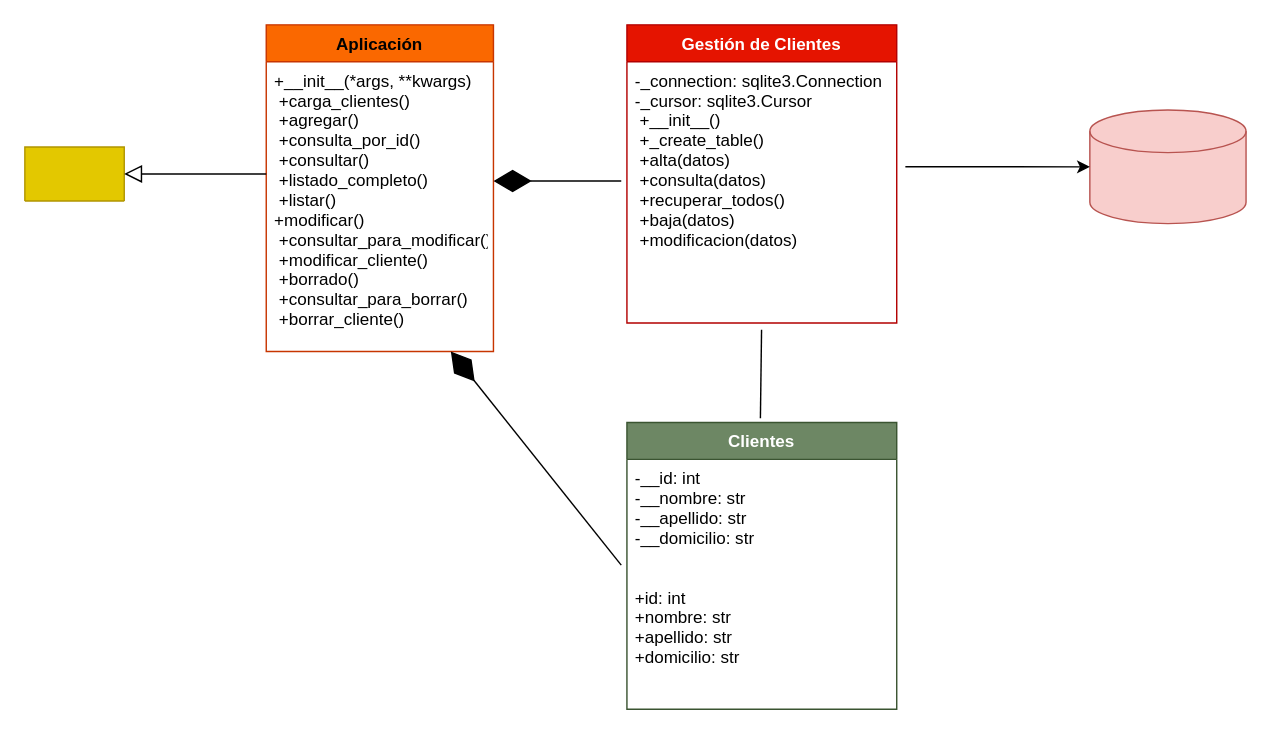
The diagram is 1271 pixels wide and 738 high, and some of its shapes have lost their labels. Each missing label, with the centre of its shape:
Base de Datos Sqlite 3: the point at 1167,166
tk.Tk: the point at 73,173
